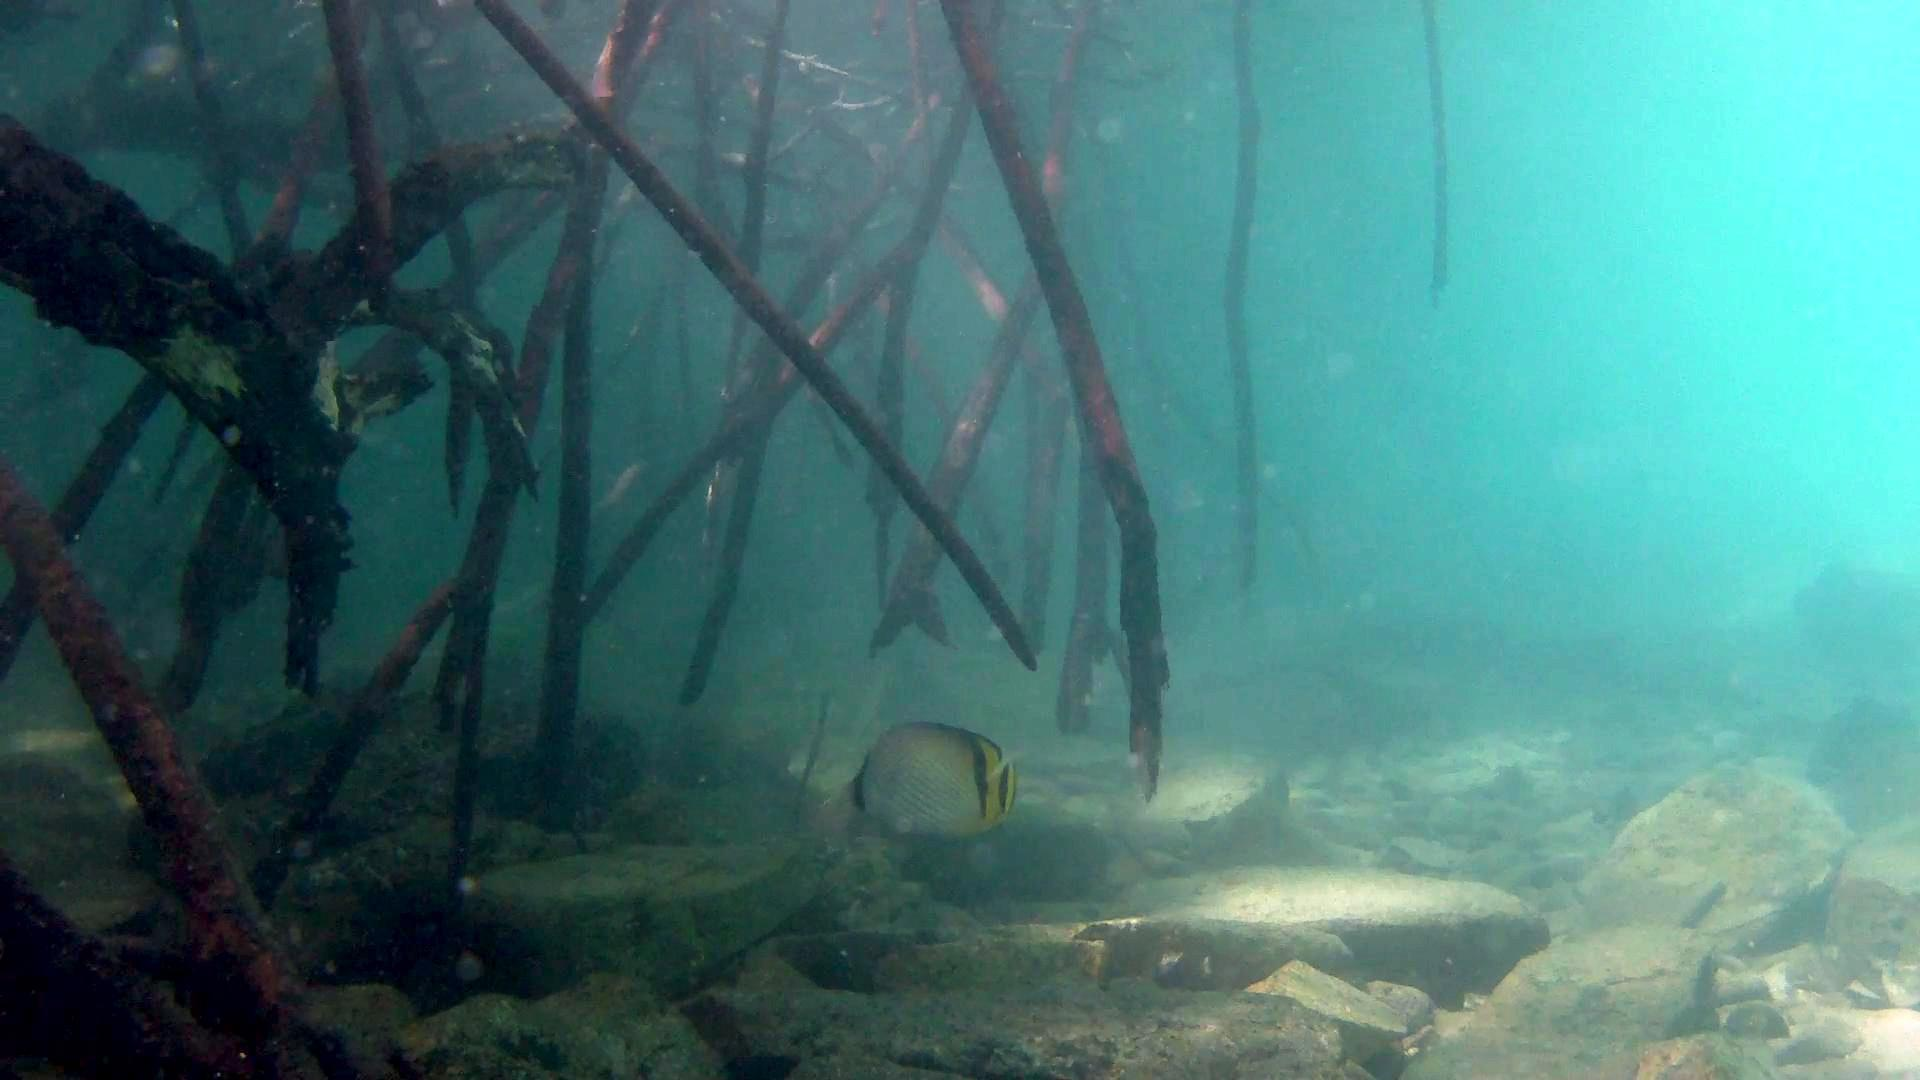chaetodon vagabundus: (827, 717, 1022, 840)
